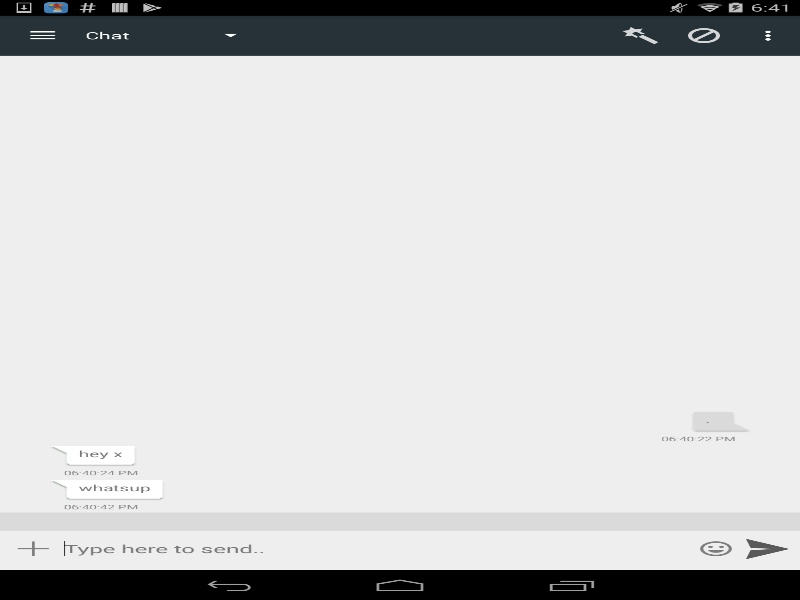Button: (0, 18, 74, 53), (744, 538, 792, 558), (694, 538, 737, 558), (12, 538, 54, 558)
Input: (64, 540, 685, 556)
